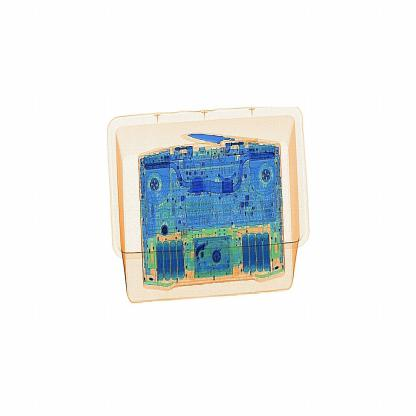wrench: (178, 123, 274, 159)
